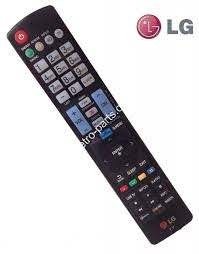remote control: (0, 11, 194, 254)
